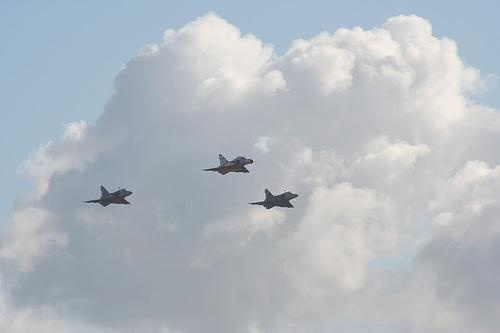aeroplane: (202, 153, 255, 178), (84, 185, 134, 208), (249, 189, 298, 211)
